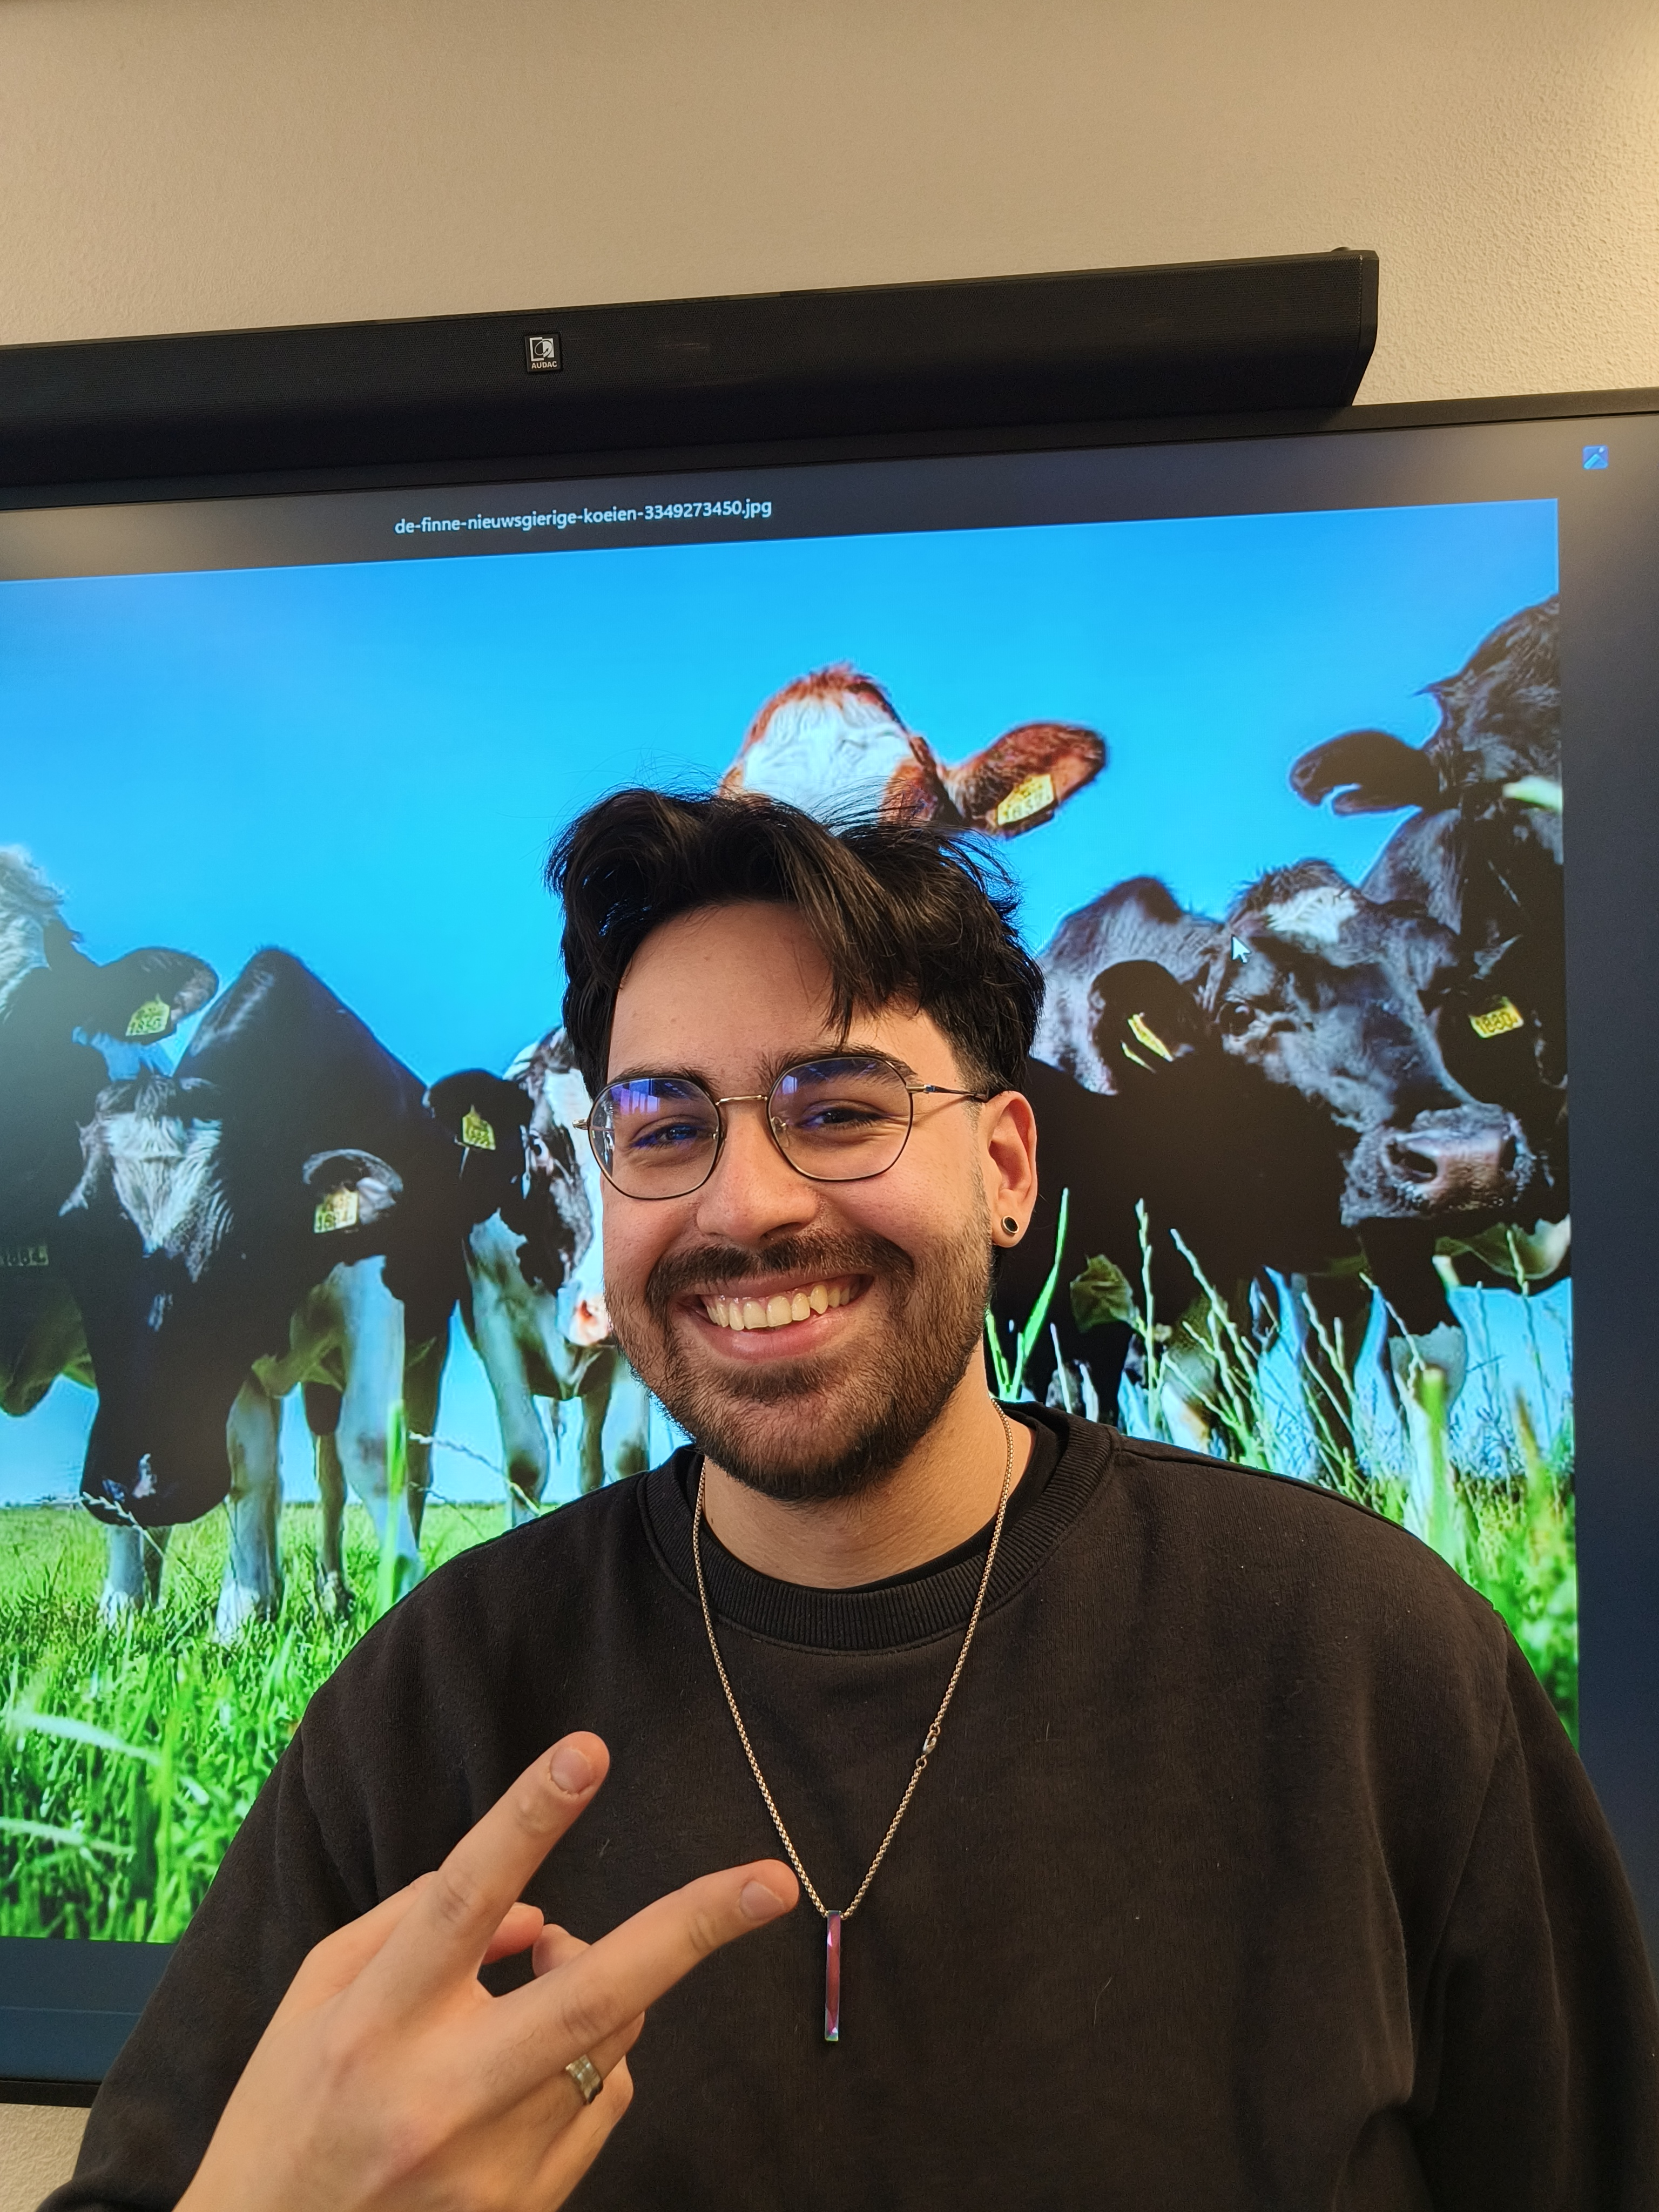face: (523, 808, 1073, 1458)
